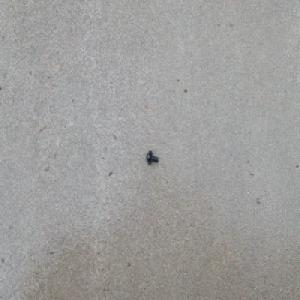BoltWasher: (145, 150, 158, 165)
